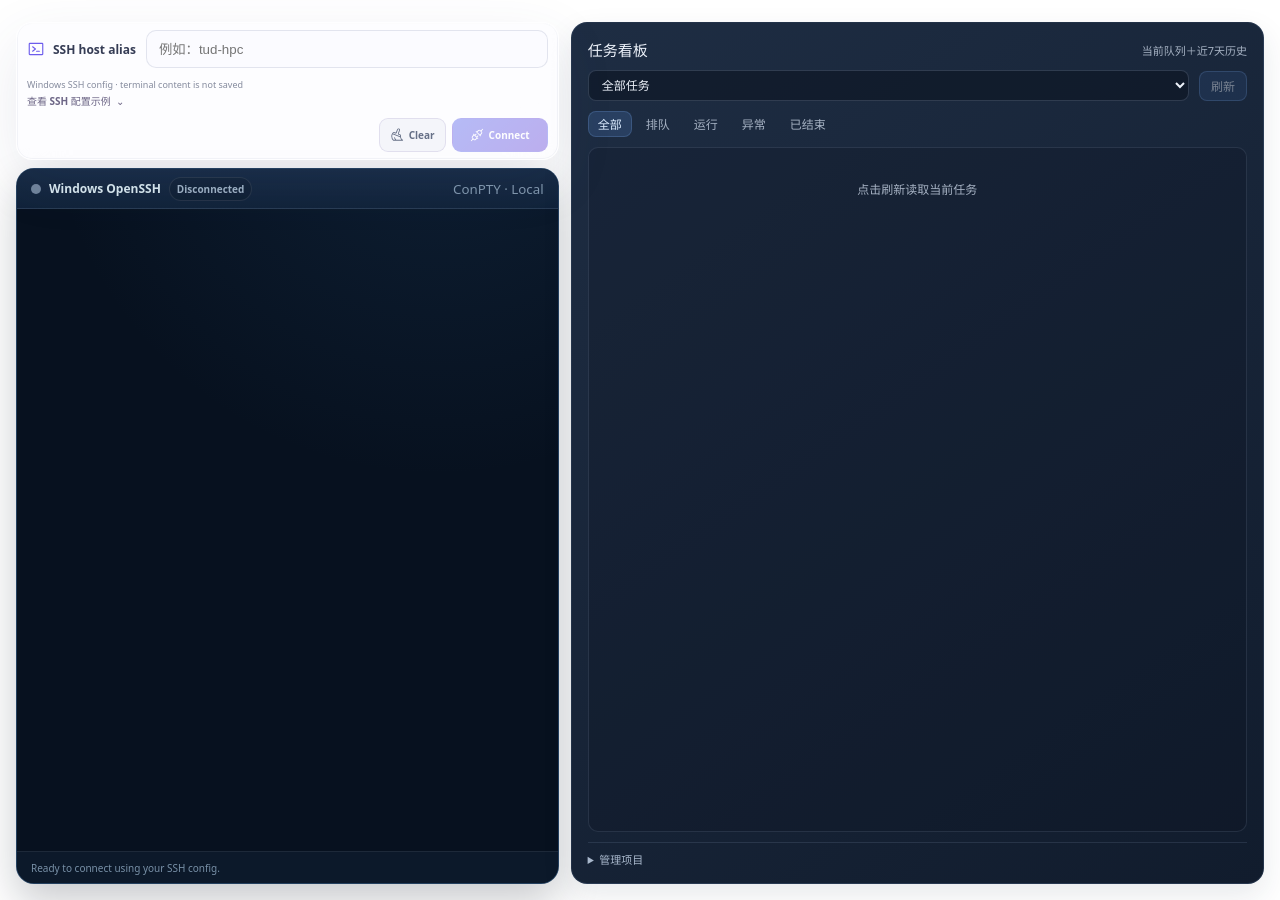
Test: HpcPage › does not become connected when the process exits before start returns
Type "tud-hpc" into the field labelled "SSH host alias". click: (347, 49)
box: [146,30,548,68]
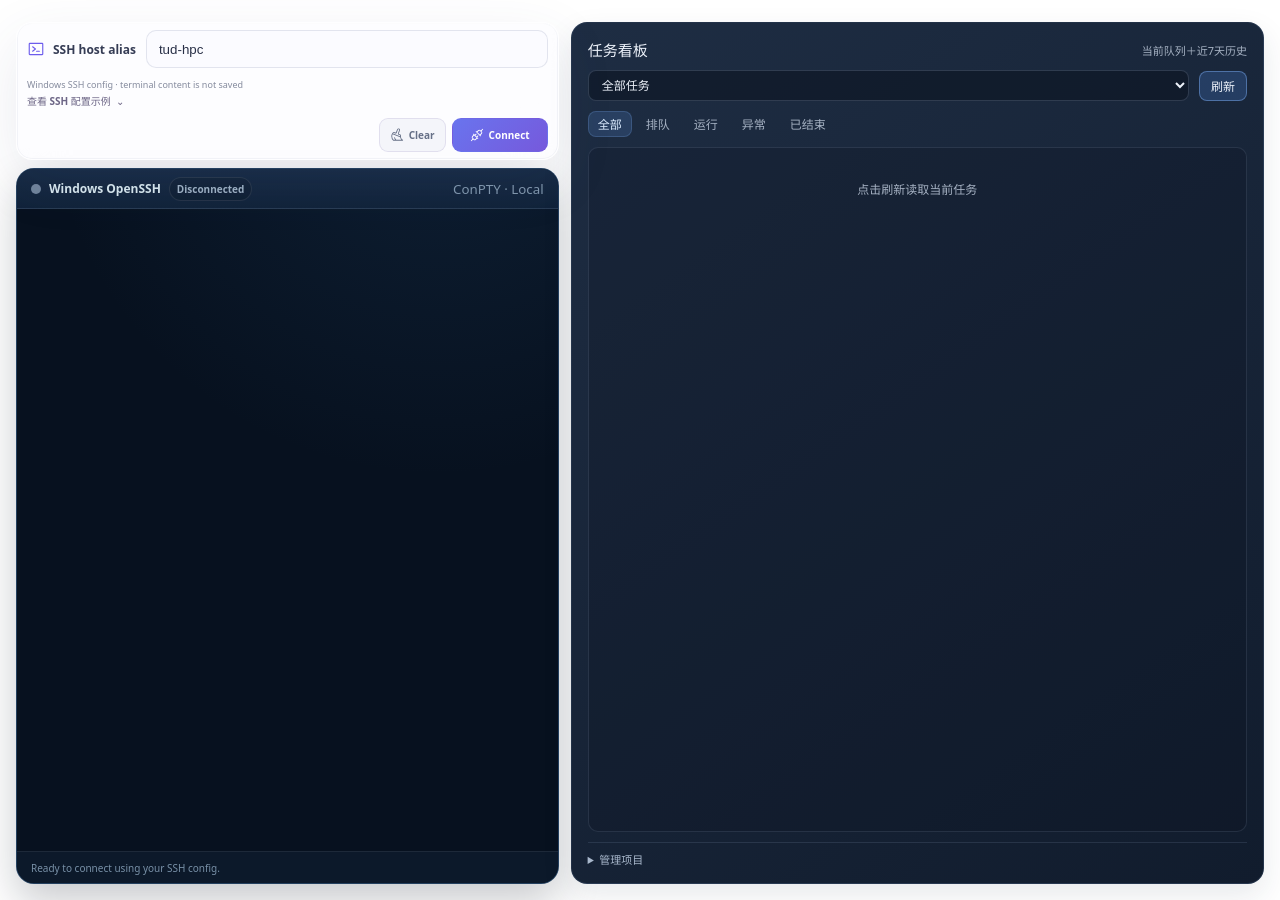
Click the button "Connect". click: (500, 135)
box: [452,118,548,152]
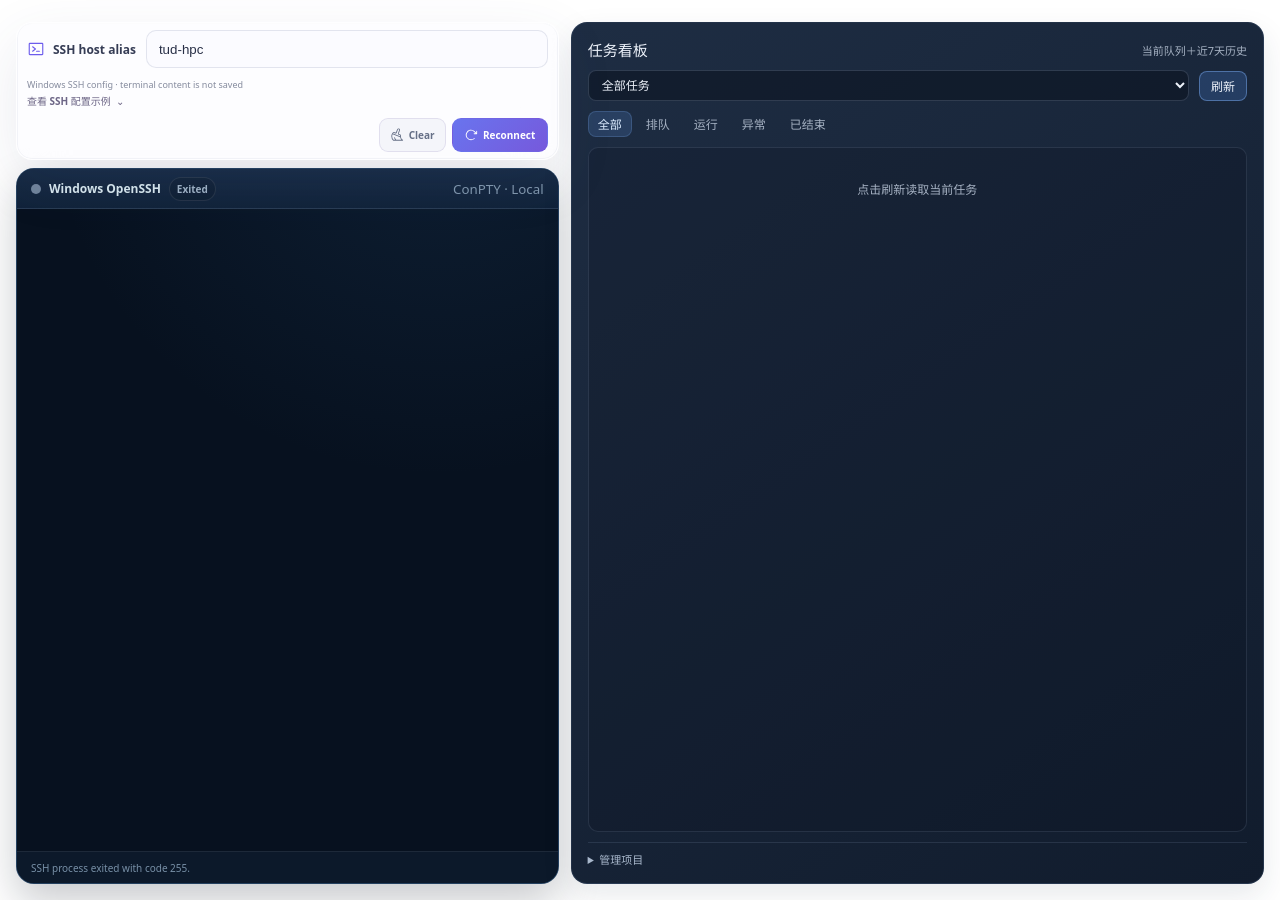
Expected: the text "Connected" is not shown
Now the text "Exited" is shown, box [169,176,216,200]
